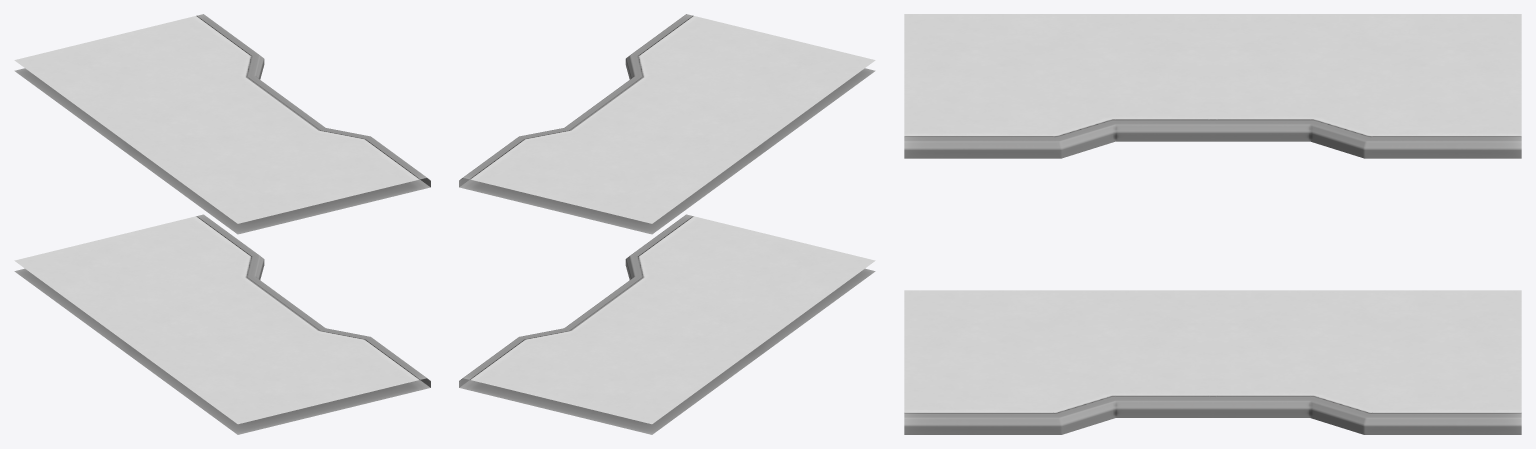
Rendered from SM_LabFridge01_1_Shelves.FBX.
3 views of the same model, side by side, from view 1: azimuth 30°, elevation 25°; view 2: azimuth 150°, elevation 25°; view 3: azimuth 270°, elevation 25° (orthographic). The views are drawn at different scales.
Visible parts, largest first — view 1: SM_LabFridge01_1_Shelves; view 2: SM_LabFridge01_1_Shelves; view 3: SM_LabFridge01_1_Shelves.
Boxes of the visible parts, x1,y1,x2,y2 form: SM_LabFridge01_1_Shelves: (14,14,430,434); SM_LabFridge01_1_Shelves: (459,14,875,434); SM_LabFridge01_1_Shelves: (904,14,1521,434).
Size of what is drawn, in the model's own units: 49.38 by 99.12 by 51.59.
